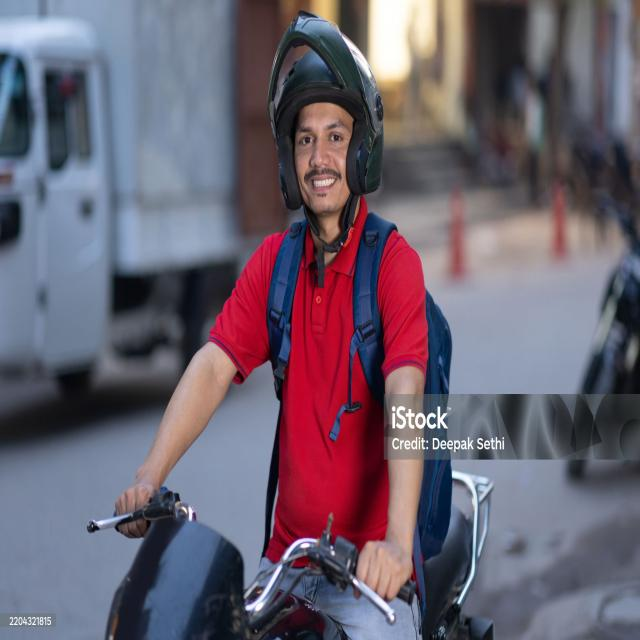Helmet: (261, 2, 401, 249)
